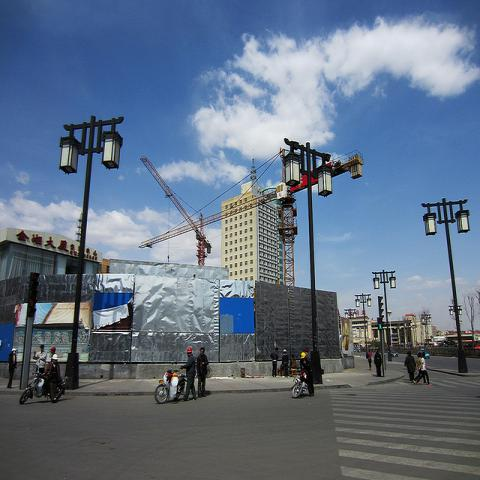motorcycle: (20, 362, 69, 404), (155, 368, 185, 404), (291, 365, 312, 398)
